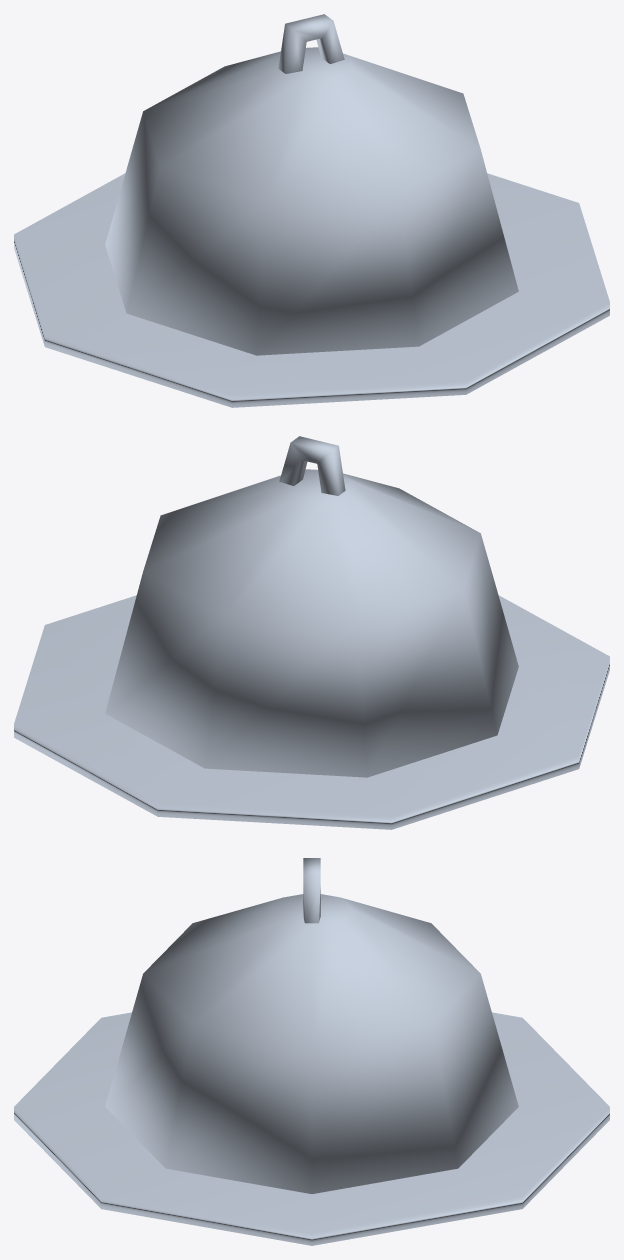
Rendered from Cuisine.fbx.
The picture shows the model from 3 angles, top to bottom: view 1: azimuth 30°, elevation 25°; view 2: azimuth 150°, elevation 25°; view 3: azimuth 270°, elevation 25°; orthographic projection. The views are drawn at different scales.
Visible parts, largest first — view 1: pCylinder1, pCylinder2, pCube1; view 2: pCylinder1, pCylinder2, pCube1; view 3: pCylinder1, pCylinder2, pCube1.
Part boxes in pixels (x1,y1,x2,y2): pCylinder1: (105,47,518,355); pCylinder2: (14,173,609,407); pCube1: (278,14,344,73); pCylinder1: (105,469,518,777); pCylinder2: (14,595,609,829); pCube1: (279,436,345,495); pCylinder1: (105,894,518,1193); pCylinder2: (14,1012,609,1245); pCube1: (303,858,320,923).
Size of the model in its own units: 2.88 by 1.52 by 2.88.
